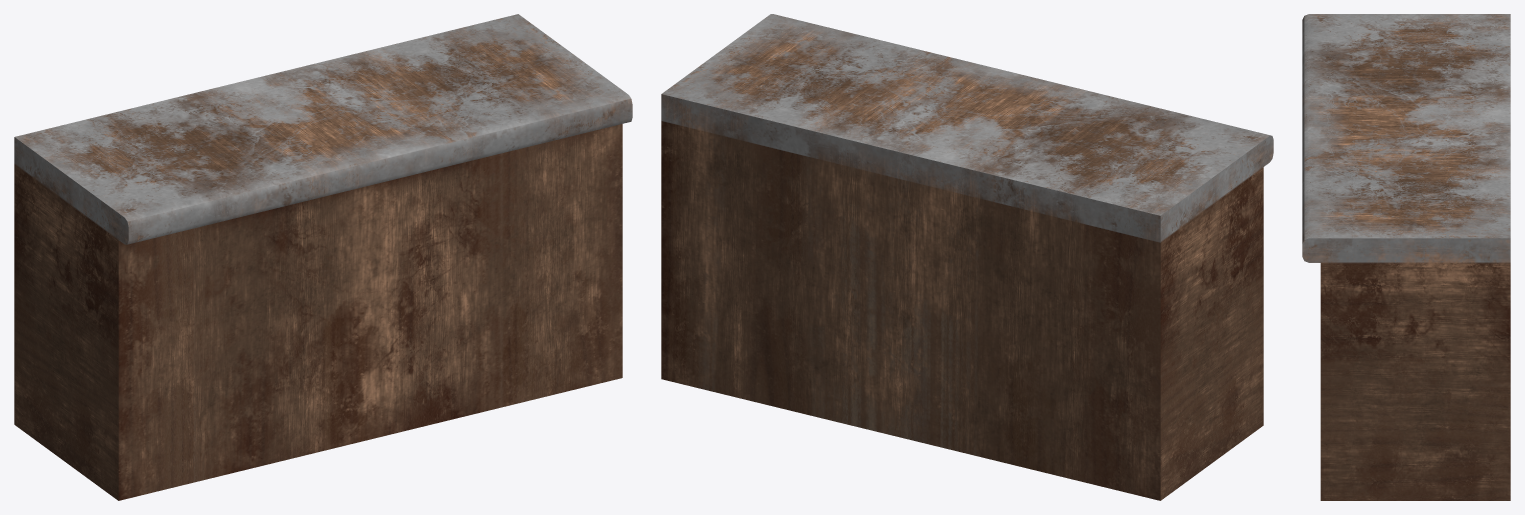
File: counter_top.glb
3 renders of one model, left to right at view 1: azimuth 30°, elevation 25°; view 2: azimuth 150°, elevation 25°; view 3: azimuth 270°, elevation 25°, orthographic. The views are drawn at different scales.
Parts seen in each view (by area): view 1: pCube2; view 2: pCube2; view 3: pCube2.
Boxes of the visible parts, x1,y1,x2,y2 form: pCube2: (14,14,632,500); pCube2: (661,14,1273,500); pCube2: (1302,14,1510,500).
Size of the model in its own units: 168 by 91.76 by 65.96.
1 material, 1 textured.
